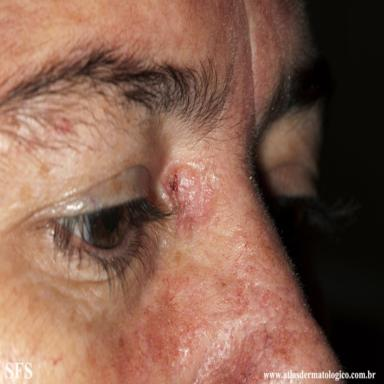basal-cell-carcinoma: (158, 159, 220, 230)
